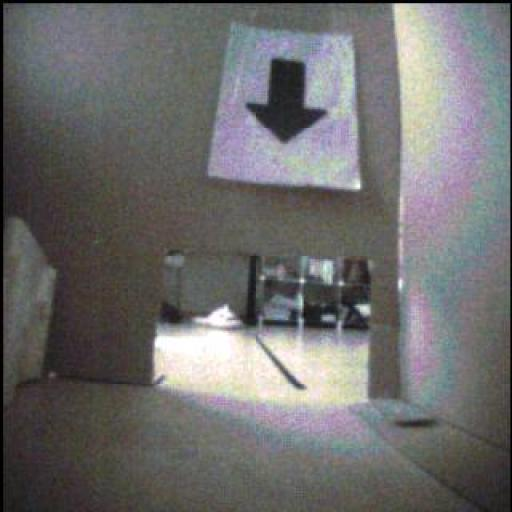arrow: (248, 61, 328, 144)
